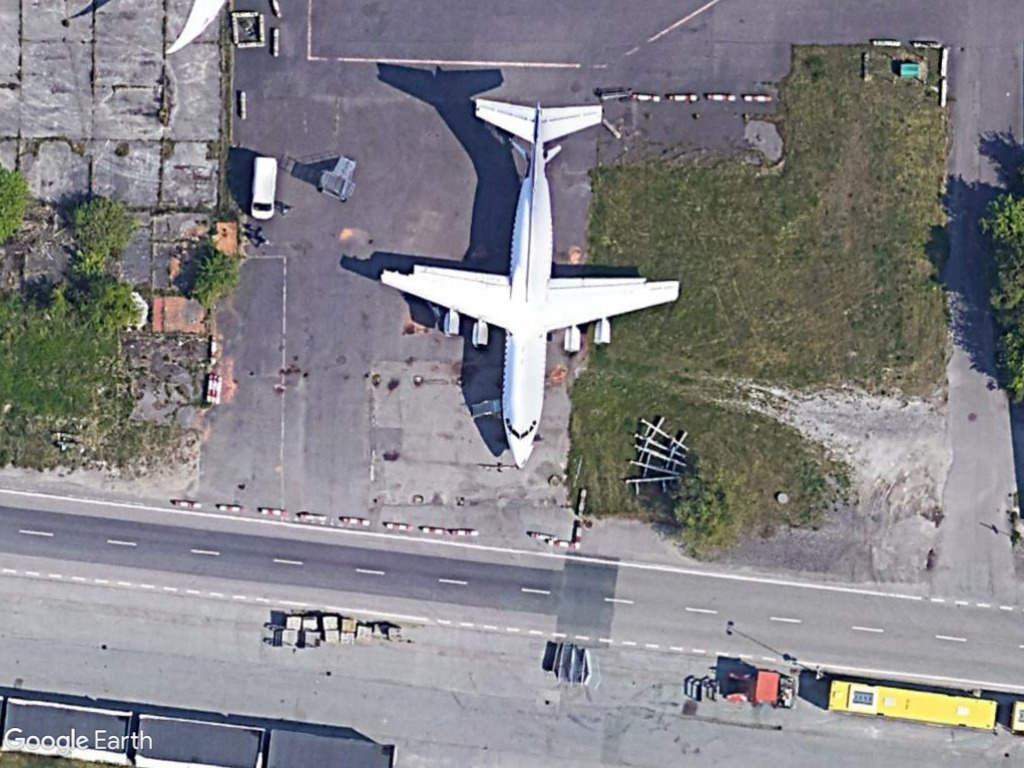airliner: (376, 95, 682, 473)
bus: (825, 676, 1006, 740)
van: (248, 152, 282, 223)
